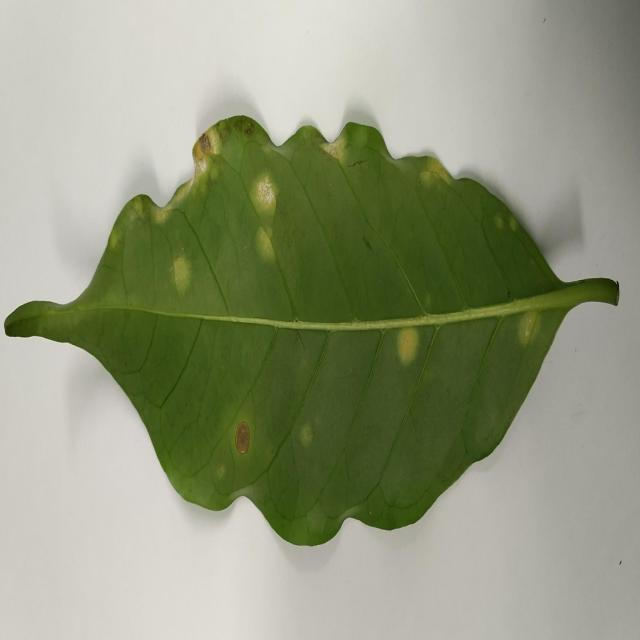rust: (170, 252, 217, 314), (398, 152, 453, 192), (250, 161, 286, 221), (518, 311, 556, 364), (394, 326, 435, 371), (192, 122, 221, 179), (319, 123, 353, 167)
